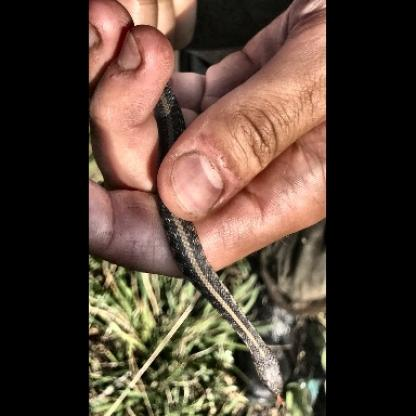Snake: (148, 83, 284, 403)
